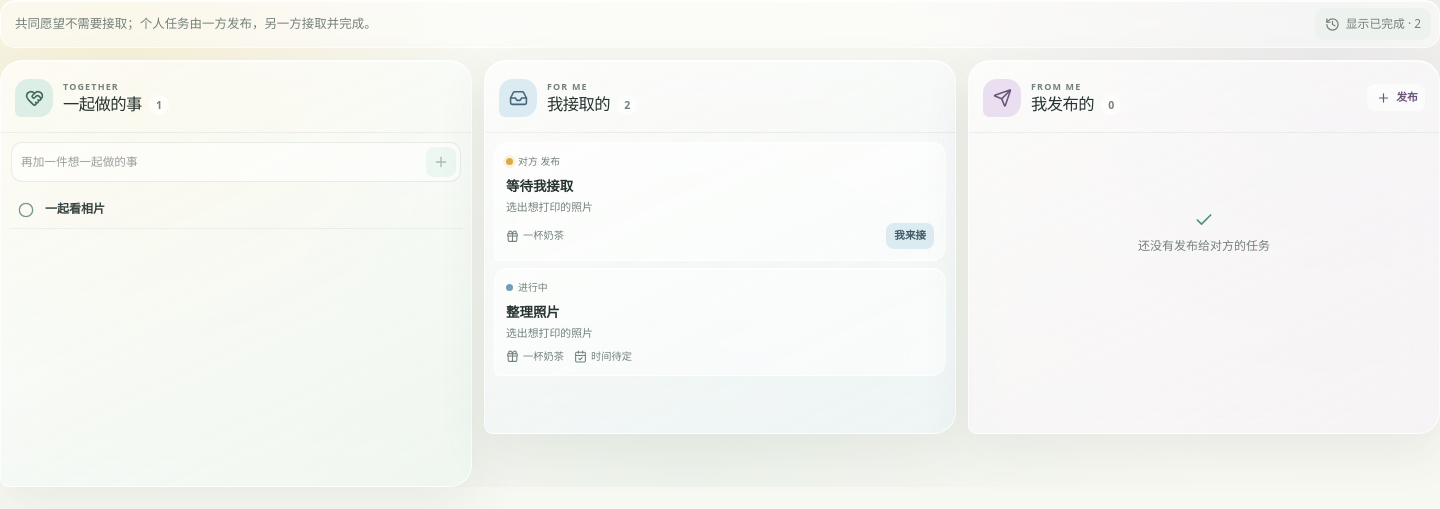
Scenario: PersonalTodoList › shows together, assigned and published columns with a completed-history toggle
Expected: the text "一起看相片" is shown, [45,200,105,217]
Expected: the heading "一起做的事 1" is shown, [63,93,169,115]
Click the button "显示已完成 · 2" at (1373, 24), box [1315,8,1431,40]
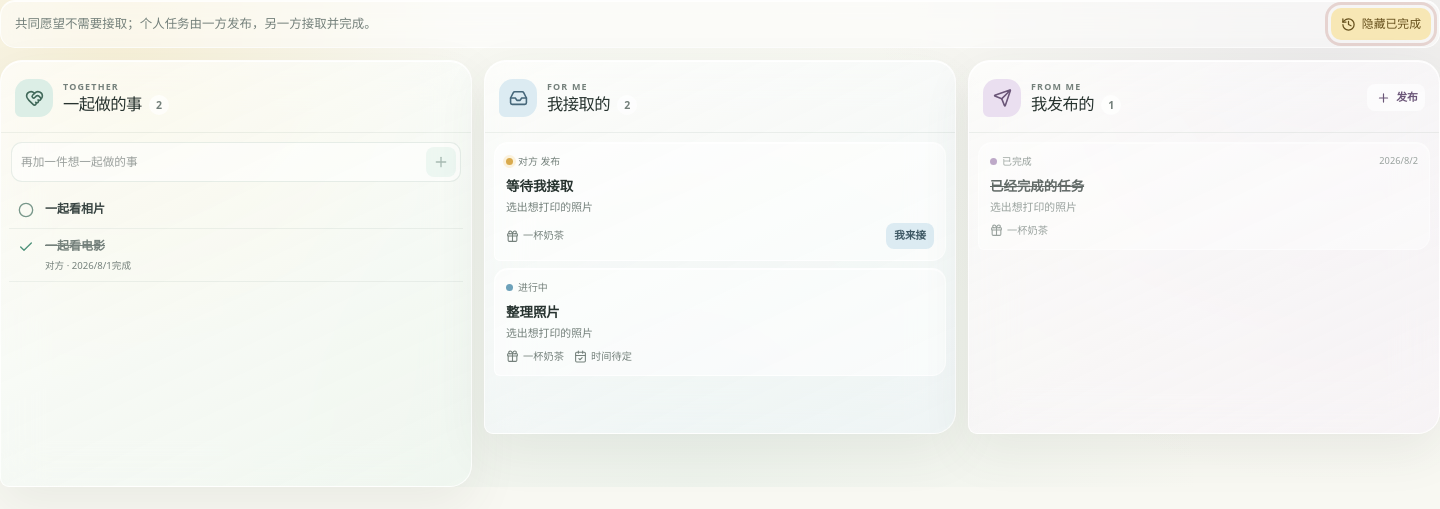
Now the text "一起看电影" is shown, box [45,237,105,254]
Now the text "已经完成的任务" is shown, box [990,177,1084,195]
